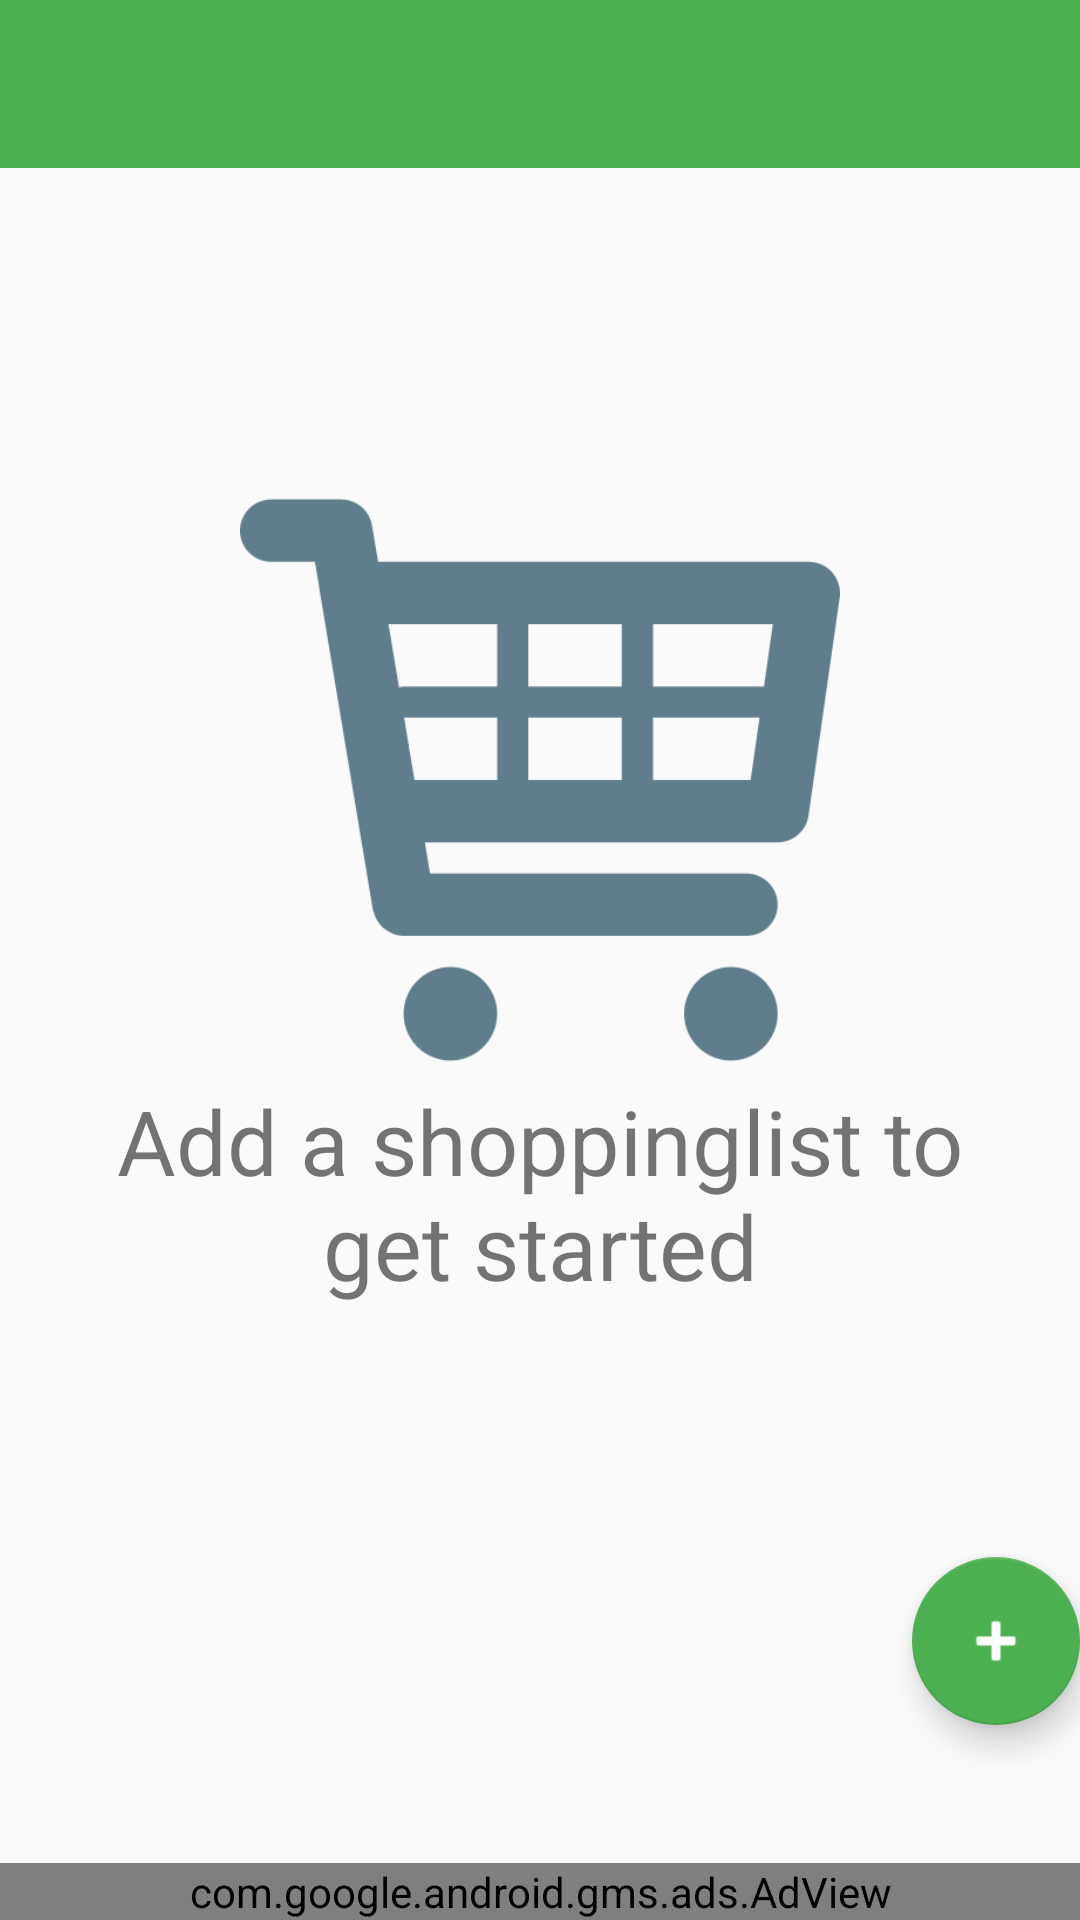

Screen size 1080 × 1920. Icon name, then its center in pixels as [x,y]:
add: [996,1641]
